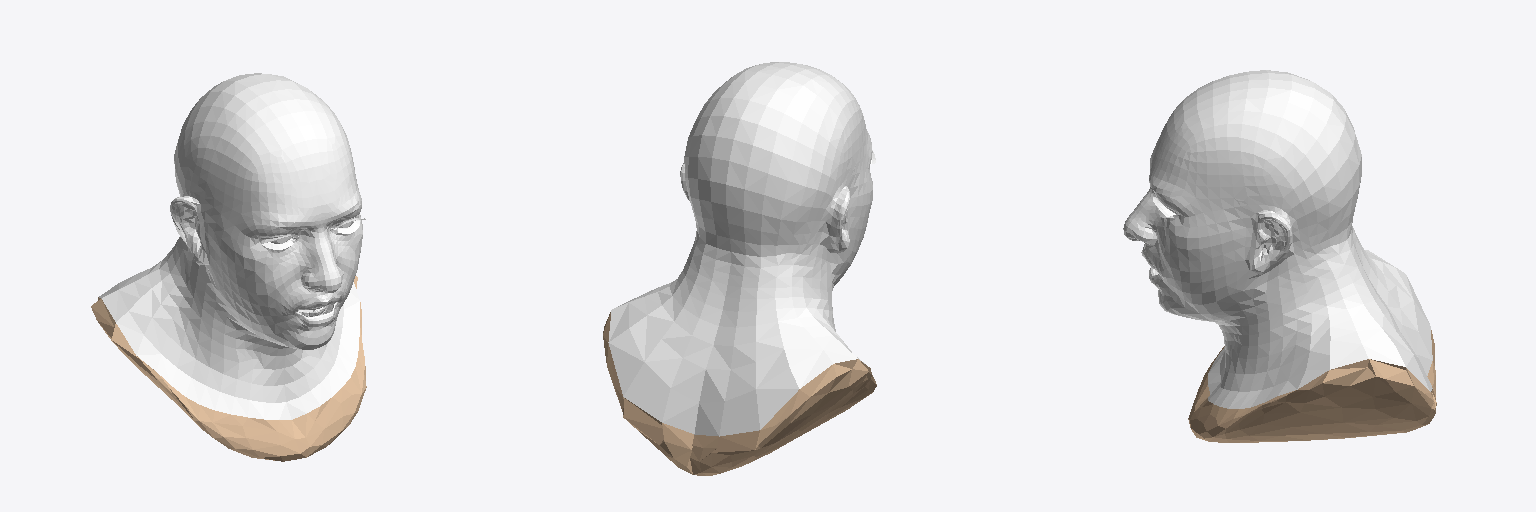
The model's file is Head_i.obj.
The picture shows the model from 3 angles: view 1: azimuth 30°, elevation 25°; view 2: azimuth 150°, elevation 25°; view 3: azimuth 270°, elevation 25°; orthographic projection.
Parts seen in each view (by area): view 1: BodyParts; view 2: BodyParts; view 3: BodyParts.
Part boxes in pixels (left/top/right/bottom): BodyParts: left=91, top=73, right=366, bottom=461; BodyParts: left=603, top=62, right=876, bottom=475; BodyParts: left=1123, top=70, right=1436, bottom=442.
Size of the model in its own units: 27.78 by 38.23 by 30.66.